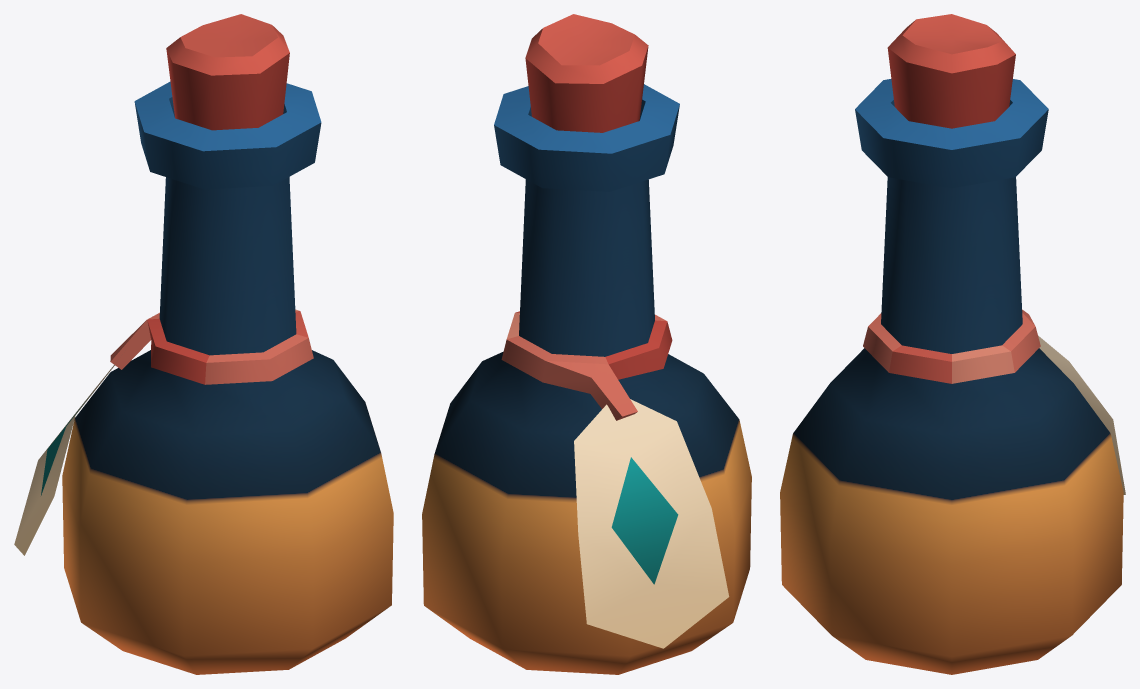
The model's file is Potion_Mana2.fbx.
The picture shows the model from 3 angles, left to right: view 1: azimuth 30°, elevation 25°; view 2: azimuth 150°, elevation 25°; view 3: azimuth 270°, elevation 25°; orthographic projection.
Parts seen in each view (by area): view 1: Potion_Mana2; view 2: Potion_Mana2; view 3: Potion_Mana2.
Part boxes in pixels (<box>): Potion_Mana2: <box>14,14,393,674</box>; Potion_Mana2: <box>422,14,751,674</box>; Potion_Mana2: <box>780,14,1125,674</box>.
Size of the model in its own units: 38.97 by 67.93 by 35.65.
